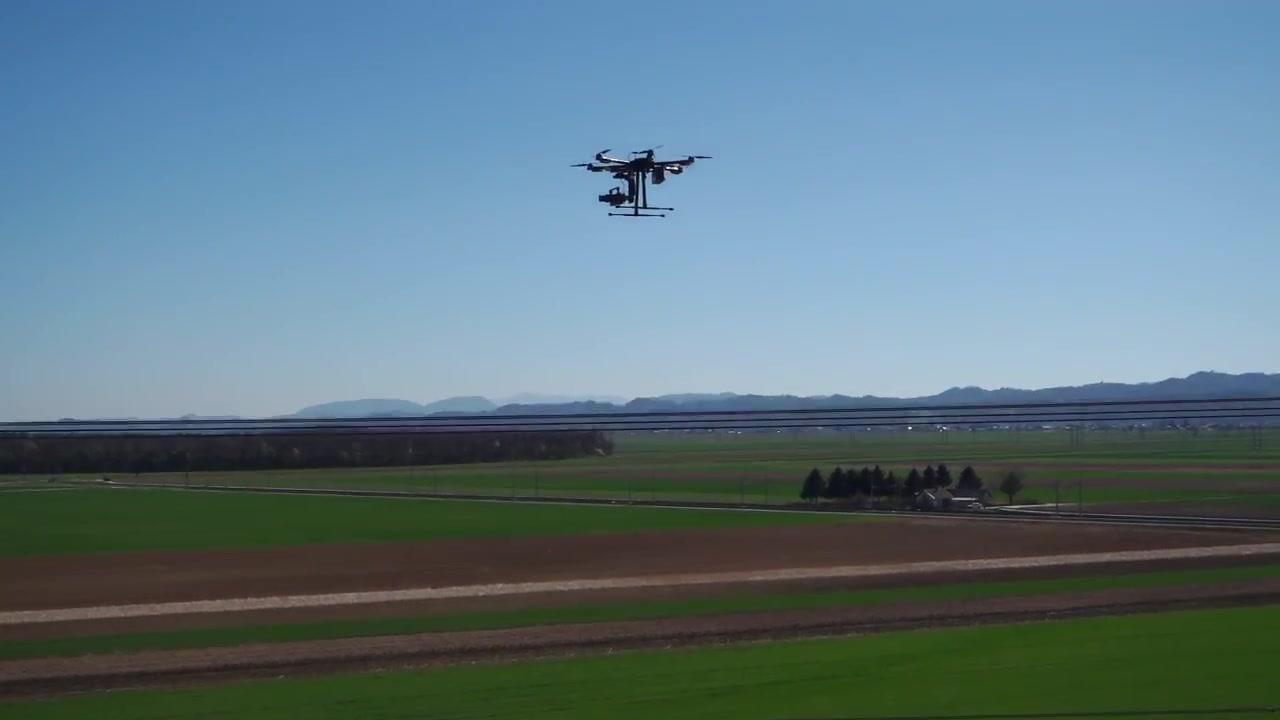UAV: (571, 146, 715, 219)
